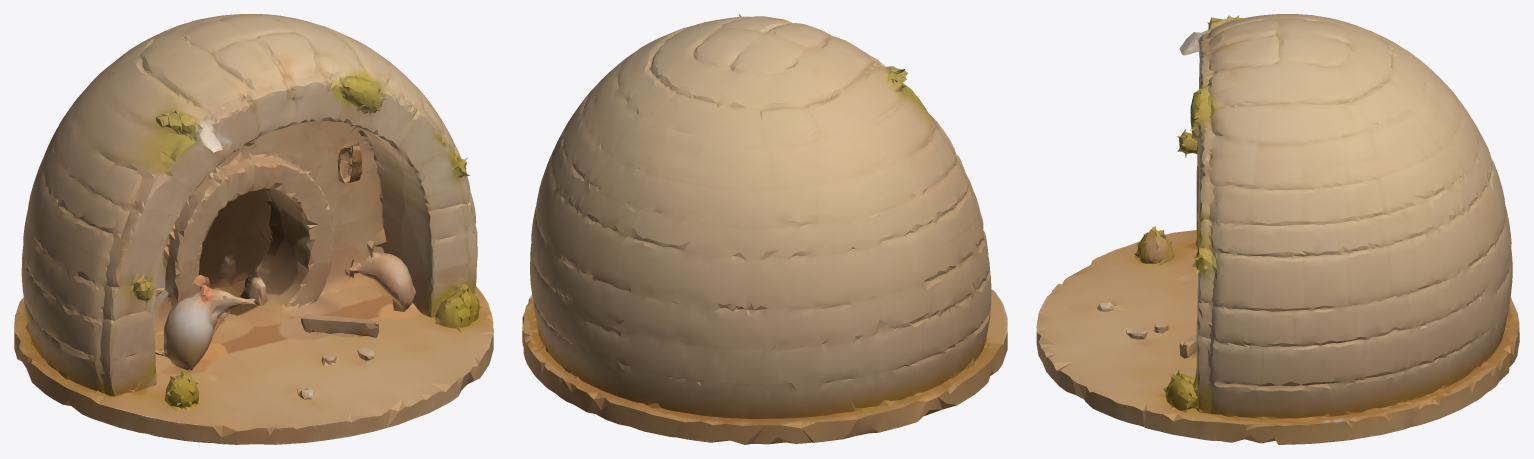
The picture shows the model from 3 angles, left to right: view 1: azimuth 30°, elevation 25°; view 2: azimuth 150°, elevation 25°; view 3: azimuth 270°, elevation 25°; orthographic projection.
Visible parts, largest first — view 1: BurrowDefense; view 2: BurrowDefense; view 3: BurrowDefense.
Part boxes in pixels (left/top/right/bottom): BurrowDefense: left=14, top=14, right=493, bottom=444; BurrowDefense: left=522, top=14, right=1007, bottom=444; BurrowDefense: left=1036, top=14, right=1519, bottom=444.
Bounding box in the file's own units: 1.9 × 1.34 × 1.9.
1 material, 1 textured.
